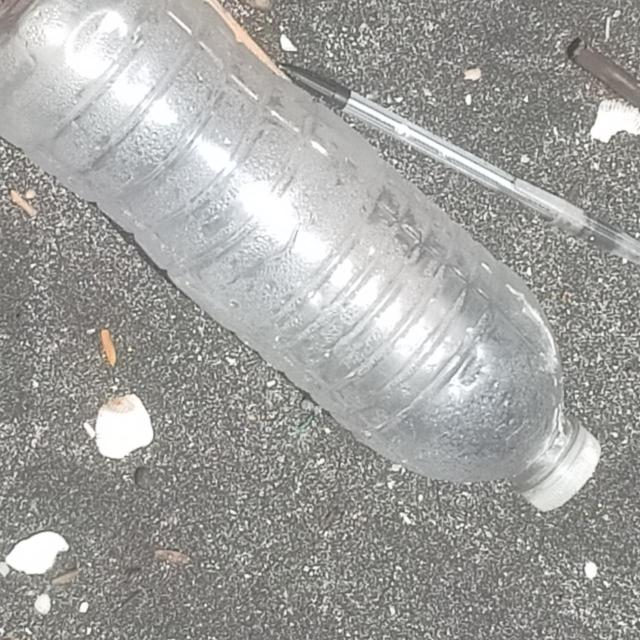litter: (0, 0, 602, 514)
